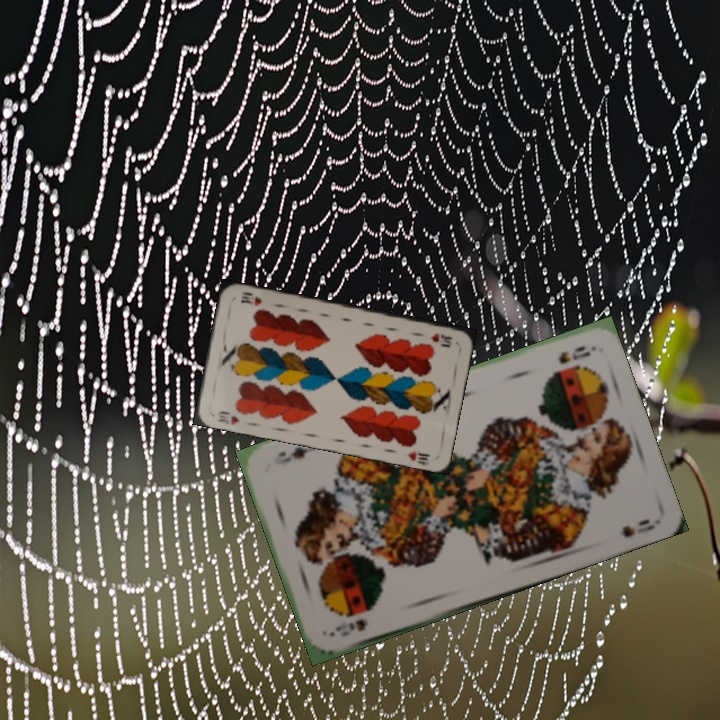H10: (213, 407, 241, 428), (426, 329, 455, 348)
SO: (554, 341, 593, 367), (331, 615, 370, 634)
